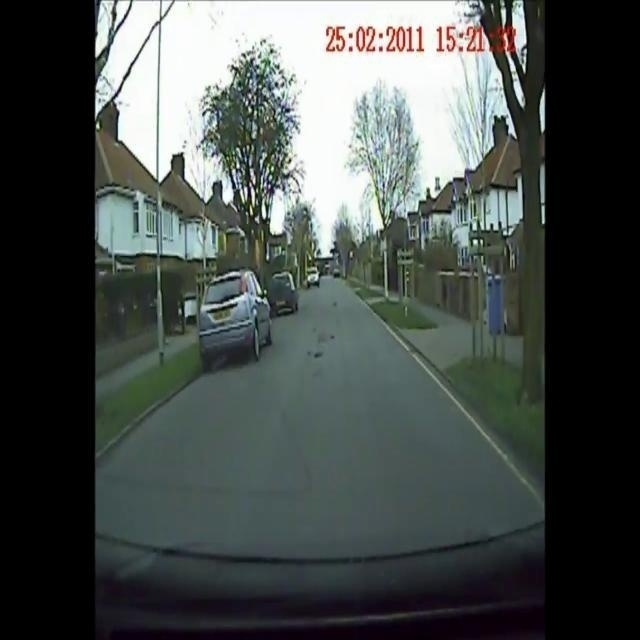pothole: (303, 342, 332, 382), (321, 323, 343, 350), (328, 293, 344, 321)
